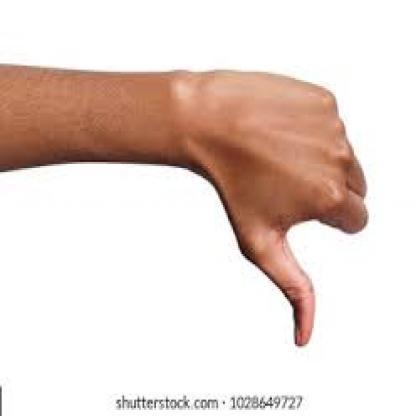thumb_down: (219, 63, 371, 351)
